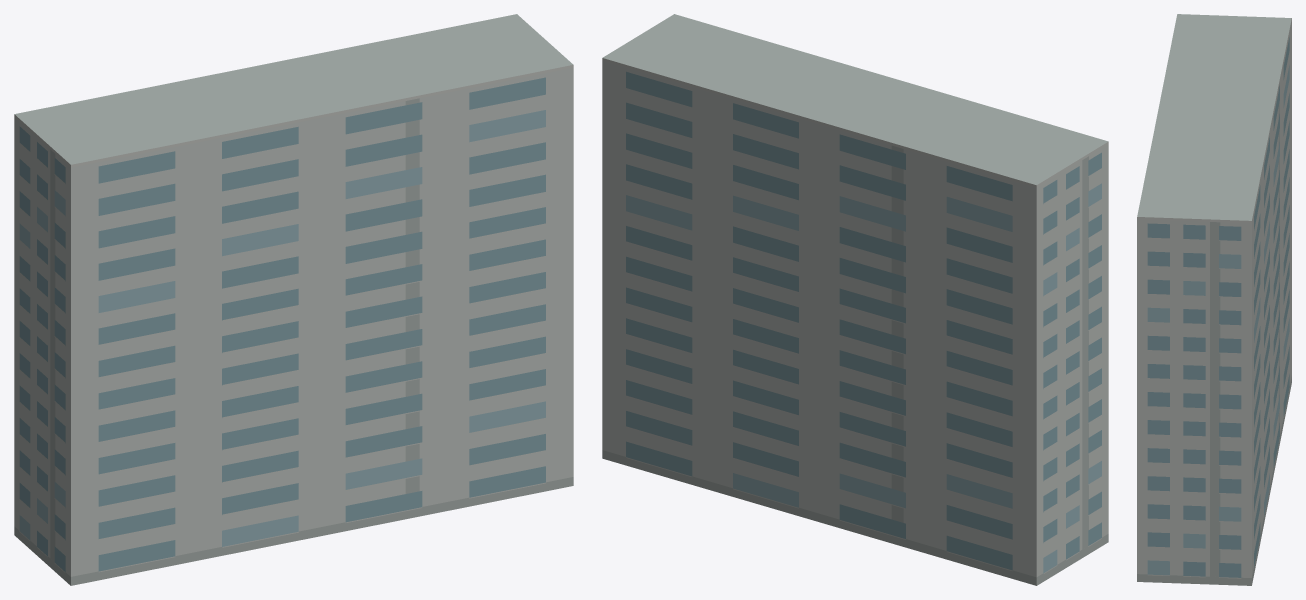
Rendered from residential-c8358867-4434-48d9-aaef-5a71ffc6c737.glb.
3 renders of one model, left to right at view 1: azimuth 30°, elevation 25°; view 2: azimuth 150°, elevation 25°; view 3: azimuth 270°, elevation 25°, orthographic. The views are drawn at different scales.
Parts seen in each view (by area): view 1: residential-c8358867-4434-48d9-aaef-5a71ffc6c737.tmp; view 2: residential-c8358867-4434-48d9-aaef-5a71ffc6c737.tmp; view 3: residential-c8358867-4434-48d9-aaef-5a71ffc6c737.tmp.
Boxes of the visible parts, left/top/right/bottom form: residential-c8358867-4434-48d9-aaef-5a71ffc6c737.tmp: left=14, top=14, right=573, bottom=585; residential-c8358867-4434-48d9-aaef-5a71ffc6c737.tmp: left=602, top=14, right=1108, bottom=585; residential-c8358867-4434-48d9-aaef-5a71ffc6c737.tmp: left=1137, top=14, right=1291, bottom=585.
Size of the model in its own units: 43.77 by 36 by 13.84.
